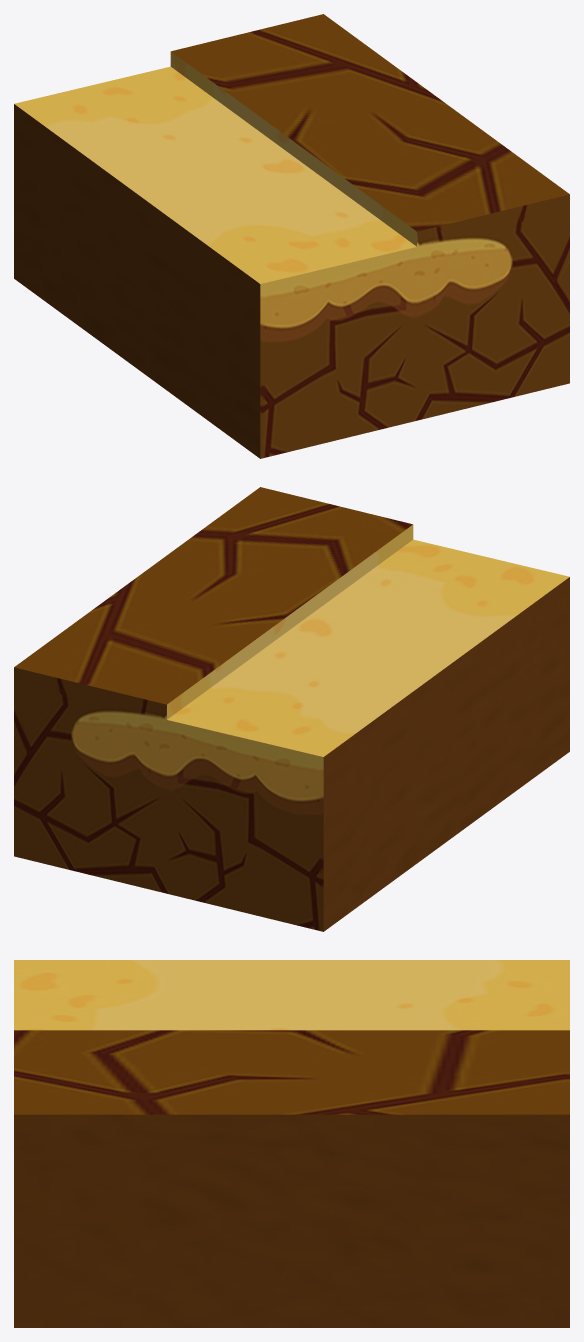
The model's file is Desert_R_4.fbx.
3 renders of one model, top to bottom at view 1: azimuth 30°, elevation 25°; view 2: azimuth 150°, elevation 25°; view 3: azimuth 270°, elevation 25°, orthographic. The views are drawn at different scales.
Parts seen in each view (by area): view 1: Desert_R_4; view 2: Desert_R_4; view 3: Desert_R_4.
Part boxes in pixels (x1,y1,x2,y2): Desert_R_4: [14, 14, 569, 458]; Desert_R_4: [14, 487, 569, 931]; Desert_R_4: [14, 960, 569, 1327].
Bounding box in the file's own units: 3.09 × 1.8 × 4.26.
1 material, 1 textured.
